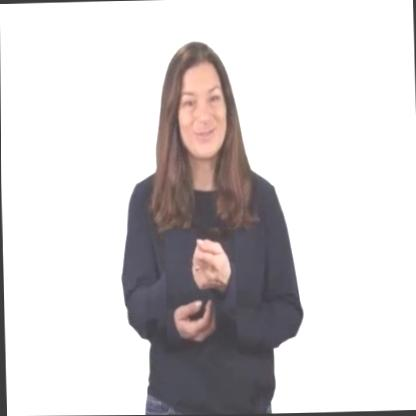HowAreYou: (164, 228, 237, 363)
